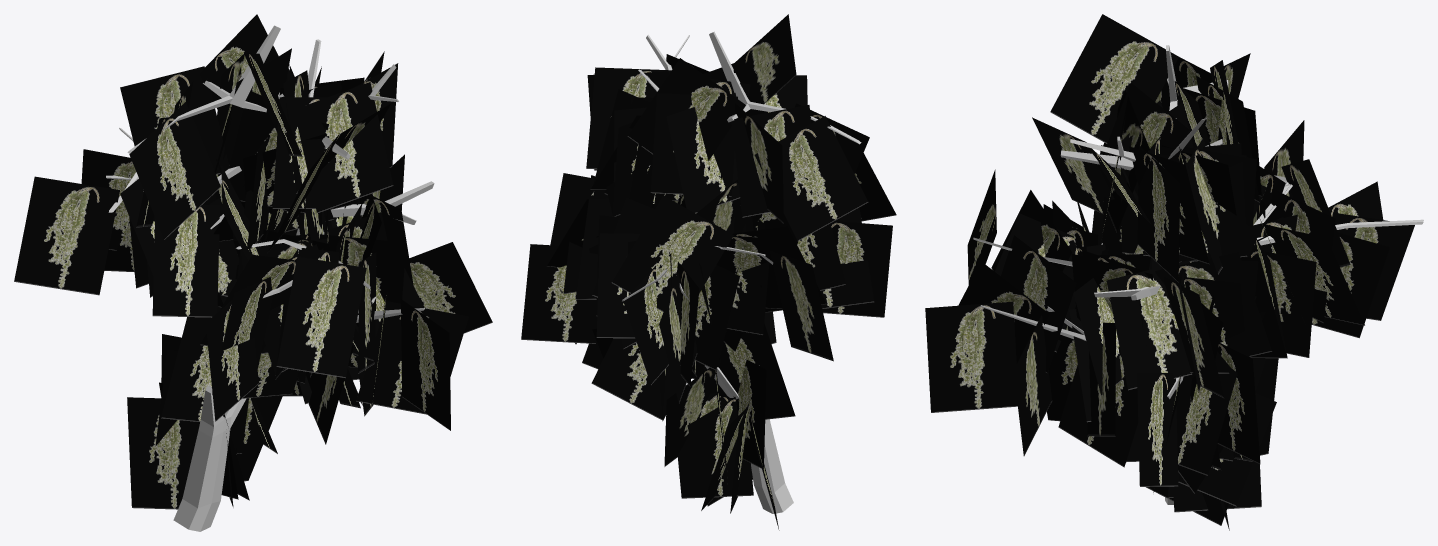
File: tree3GProps.fbx
The picture shows the model from 3 angles, left to right: view 1: azimuth 30°, elevation 25°; view 2: azimuth 150°, elevation 25°; view 3: azimuth 270°, elevation 25°; orthographic projection. The views are drawn at different scales.
Visible parts, largest first — view 1: Cube.044, Cube.044|Empty.003|Dupli|62, Cube.044|Empty.003|Dupli|83, Cube.044|Empty.003|Dupli|109, Cube.044|Empty.003|Dupli|92, Cube.044|Empty.003|Dupli|54, Cube.044|Empty.003|Dupli|2, Cube.044|Empty.003|Dupli|122, Cube.044|Empty.003|Dupli|95, Cube.044|Empty.003|Dupli|123, Cube.044|Empty.003|Dupli|116, Cube.044|Empty.003|Dupli|77 (+34 smaller); view 2: Cube.044|Empty.003|Dupli|114, Cube.044|Empty.003|Dupli|58, Cube.044|Empty.003|Dupli|119, Cube.044, Cube.044|Empty.003|Dupli|98, Cube.044|Empty.003|Dupli|62, Cube.044|Empty.003|Dupli|97, Cube.044|Empty.003|Dupli|77, Cube.044|Empty.003|Dupli|8, Cube.044|Empty.003|Dupli|96, Cube.044|Empty.003|Dupli|115, Cube.044|Empty.003|Dupli|93 (+34 smaller); view 3: Cube.044|Empty.003|Dupli|122, Cube.044|Empty.003|Dupli|93, Cube.044|Empty.003|Dupli|113, Cube.044, Cube.044|Empty.003|Dupli|116, Cube.044|Empty.003|Dupli|118, Cube.044|Empty.003|Dupli|20, Cube.044|Empty.003|Dupli|75, Cube.044|Empty.003|Dupli|35, Cube.044|Empty.003|Dupli|51, Cube.044|Empty.003|Dupli|121, Cube.044|Empty.003|Dupli|119 (+43 smaller).
Boxes of the visible parts, x1=… form: Cube.044: x1=106, y1=25, x2=434, y2=531; Cube.044|Empty.003|Dupli|62: x1=14, y1=176, x2=119, y2=295; Cube.044|Empty.003|Dupli|83: x1=276, y1=256, x2=366, y2=377; Cube.044|Empty.003|Dupli|109: x1=294, y1=82, x2=393, y2=213; Cube.044|Empty.003|Dupli|92: x1=129, y1=102, x2=220, y2=239; Cube.044|Empty.003|Dupli|54: x1=152, y1=205, x2=219, y2=317; Cube.044|Empty.003|Dupli|2: x1=127, y1=397, x2=199, y2=509; Cube.044|Empty.003|Dupli|122: x1=400, y1=299, x2=450, y2=430; Cube.044|Empty.003|Dupli|95: x1=120, y1=66, x2=229, y2=174; Cube.044|Empty.003|Dupli|123: x1=356, y1=301, x2=468, y2=414; Cube.044|Empty.003|Dupli|116: x1=409, y1=242, x2=492, y2=333; Cube.044|Empty.003|Dupli|77: x1=205, y1=285, x2=258, y2=421; Cube.044|Empty.003|Dupli|114: x1=754, y1=116, x2=868, y2=240; Cube.044|Empty.003|Dupli|58: x1=611, y1=195, x2=733, y2=311; Cube.044|Empty.003|Dupli|119: x1=521, y1=244, x2=597, y2=343; Cube.044: x1=622, y1=31, x2=861, y2=513; Cube.044|Empty.003|Dupli|98: x1=627, y1=58, x2=745, y2=160; Cube.044|Empty.003|Dupli|62: x1=769, y1=250, x2=833, y2=361; Cube.044|Empty.003|Dupli|97: x1=666, y1=93, x2=740, y2=213; Cube.044|Empty.003|Dupli|77: x1=822, y1=221, x2=892, y2=317; Cube.044|Empty.003|Dupli|8: x1=591, y1=338, x2=675, y2=420; Cube.044|Empty.003|Dupli|96: x1=650, y1=93, x2=737, y2=196; Cube.044|Empty.003|Dupli|115: x1=731, y1=105, x2=811, y2=217; Cube.044|Empty.003|Dupli|93: x1=733, y1=14, x2=796, y2=115; Cube.044|Empty.003|Dupli|122: x1=925, y1=301, x2=1017, y2=412; Cube.044|Empty.003|Dupli|93: x1=1050, y1=14, x2=1178, y2=143; Cube.044|Empty.003|Dupli|113: x1=1106, y1=260, x2=1191, y2=390; Cube.044: x1=973, y1=45, x2=1423, y2=504; Cube.044|Empty.003|Dupli|116: x1=1137, y1=372, x2=1178, y2=486; Cube.044|Empty.003|Dupli|118: x1=1176, y1=368, x2=1237, y2=475; Cube.044|Empty.003|Dupli|20: x1=1137, y1=145, x2=1180, y2=282; Cube.044|Empty.003|Dupli|75: x1=1001, y1=235, x2=1076, y2=372; Cube.044|Empty.003|Dupli|35: x1=1251, y1=248, x2=1316, y2=357; Cube.044|Empty.003|Dupli|51: x1=1263, y1=224, x2=1364, y2=325; Cube.044|Empty.003|Dupli|121: x1=1058, y1=346, x2=1138, y2=467; Cube.044|Empty.003|Dupli|119: x1=1217, y1=342, x2=1260, y2=464.
Bounding box in the file's own units: 2813 × 3328 × 3003.
